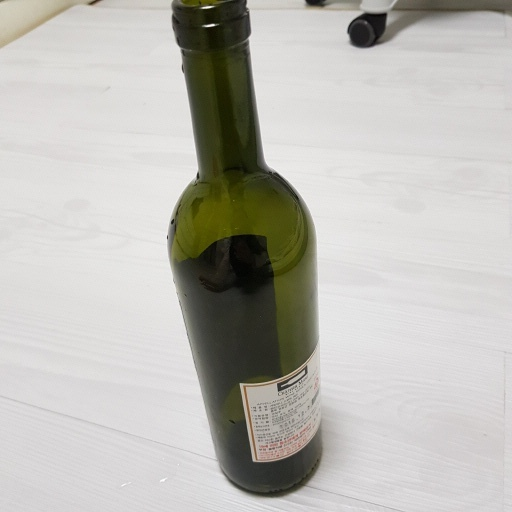Glass_2: (158, 1, 327, 498)
